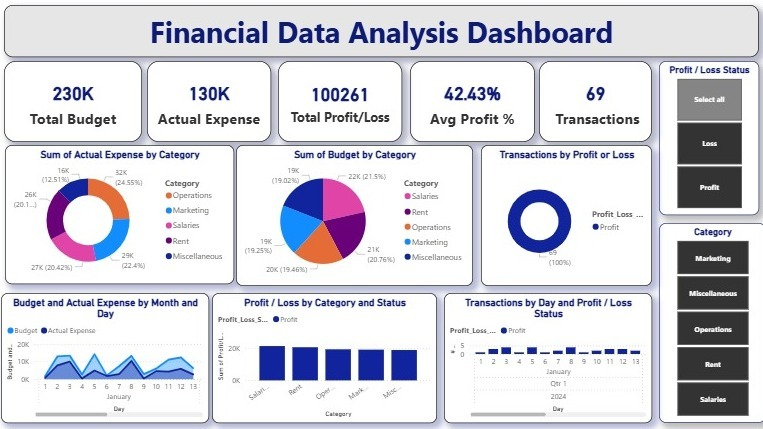

This screenshot's page, from the dashboard's own definition file:
{"tool":"powerbi","page":{"name":"Page 1","canvas":[1280,720],"ordinal":0},"visuals":[{"type":"textbox","box":[10,10,1258.3,86.7],"z":0},{"type":"card","fields":{"Values":["Sum(finddata.Budget)"]},"box":[10,103.3,230,135],"z":1000},{"type":"card","fields":{"Values":["Sum(finddata.Actual Expense)"]},"box":[248.3,103.3,206.7,135],"z":2000},{"type":"card","fields":{"Values":["Avg(finddata.Profit %)"]},"box":[686.7,103.3,208.3,135],"z":3000},{"type":"card","fields":{"Values":["Sum(finddata.Profit/Loss)"]},"box":[466.7,103.3,206.7,135],"z":4000},{"type":"slicer","title":"Profit / Loss Status","fields":{"Values":["finddata.Profit or Loss"]},"box":[1101.7,103.3,166.7,256.7],"z":5000},{"type":"card","fields":{"Values":["finddata.# Transactions"]},"box":[901.7,103.3,188.3,135],"z":6000},{"type":"slicer","title":"Category","fields":{"Values":["finddata.Category"]},"box":[1101.7,373.3,178.3,333.3],"z":7000},{"type":"donutChart","fields":{"Category":["finddata.Category"],"Y":["Sum(finddata.Actual Expense)"]},"box":[11.7,243.3,381.7,231.7],"z":8000},{"type":"pieChart","title":"Sum of Budget by Category","fields":{"Category":["finddata.Category"],"Y":["Sum(finddata.Profit/Loss)"]},"box":[396.7,243.3,395,235],"z":9000},{"type":"donutChart","title":"Transactions by Profit or Loss","fields":{"Category":["finddata.Profit or Loss"],"Y":["finddata.# Transactions"]},"box":[805,243.3,285,235],"z":10000},{"type":"areaChart","fields":{"Category":["finddata.Date.Variation.Date Hierarchy.Month","finddata.Date.Variation.Date Hierarchy.Day"],"Y":["Sum(finddata.Budget)","Sum(finddata.Actual Expense)"]},"box":[5,490,346.7,216.7],"z":10001},{"type":"clusteredColumnChart","title":"Profit / Loss by Category and Status","fields":{"Category":["finddata.Category"],"Y":["Sum(finddata.Profit/Loss)"],"Series":["finddata.Profit_Loss_Status"]},"box":[356.7,490,375,216.7],"z":10002},{"type":"clusteredColumnChart","title":"Transactions  by Day and Profit / Loss Status","fields":{"Series":["finddata.Profit_Loss_Status"],"Category":["finddata.Date.Variation.Date Hierarchy.Year","finddata.Date.Variation.Date Hierarchy.Quarter","finddata.Date.Variation.Date Hierarchy.Month","finddata.Date.Variation.Date Hierarchy.Day"],"Y":["finddata.# Transactions"]},"box":[743.3,490,346.7,216.7],"z":10003}]}

Visuals, with their boxes in screenshot pixels (x1, y1, x2, y2), scaled from the page's 1280x720 canvas onto the 763x429 screenshot:
textbox: locate(6, 6, 756, 58)
card - Sum(finddata.Budget): locate(6, 62, 143, 142)
card - Sum(finddata.Actual Expense): locate(148, 62, 271, 142)
card - Avg(finddata.Profit %): locate(409, 62, 534, 142)
card - Sum(finddata.Profit/Loss): locate(278, 62, 401, 142)
"Profit / Loss Status" slicer: locate(657, 62, 756, 214)
card - finddata.# Transactions: locate(537, 62, 650, 142)
"Category" slicer: locate(657, 222, 762, 421)
donutChart - finddata.Category x Sum(finddata.Actual Expense): locate(7, 145, 235, 283)
"Sum of Budget by Category" pieChart: locate(236, 145, 472, 285)
"Transactions by Profit or Loss" donutChart: locate(480, 145, 650, 285)
areaChart - finddata.Date.Variation.Date Hierarchy.Month x finddata.Date.Variation.Date Hierarchy.Day: locate(3, 292, 210, 421)
"Profit / Loss by Category and Status" clusteredColumnChart: locate(213, 292, 436, 421)
"Transactions  by Day and Profit / Loss Status" clusteredColumnChart: locate(443, 292, 650, 421)
